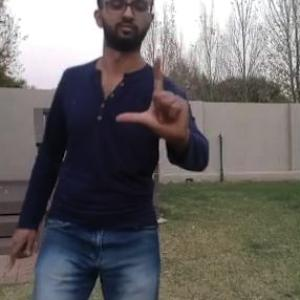land_hand: (114, 49, 196, 149)
